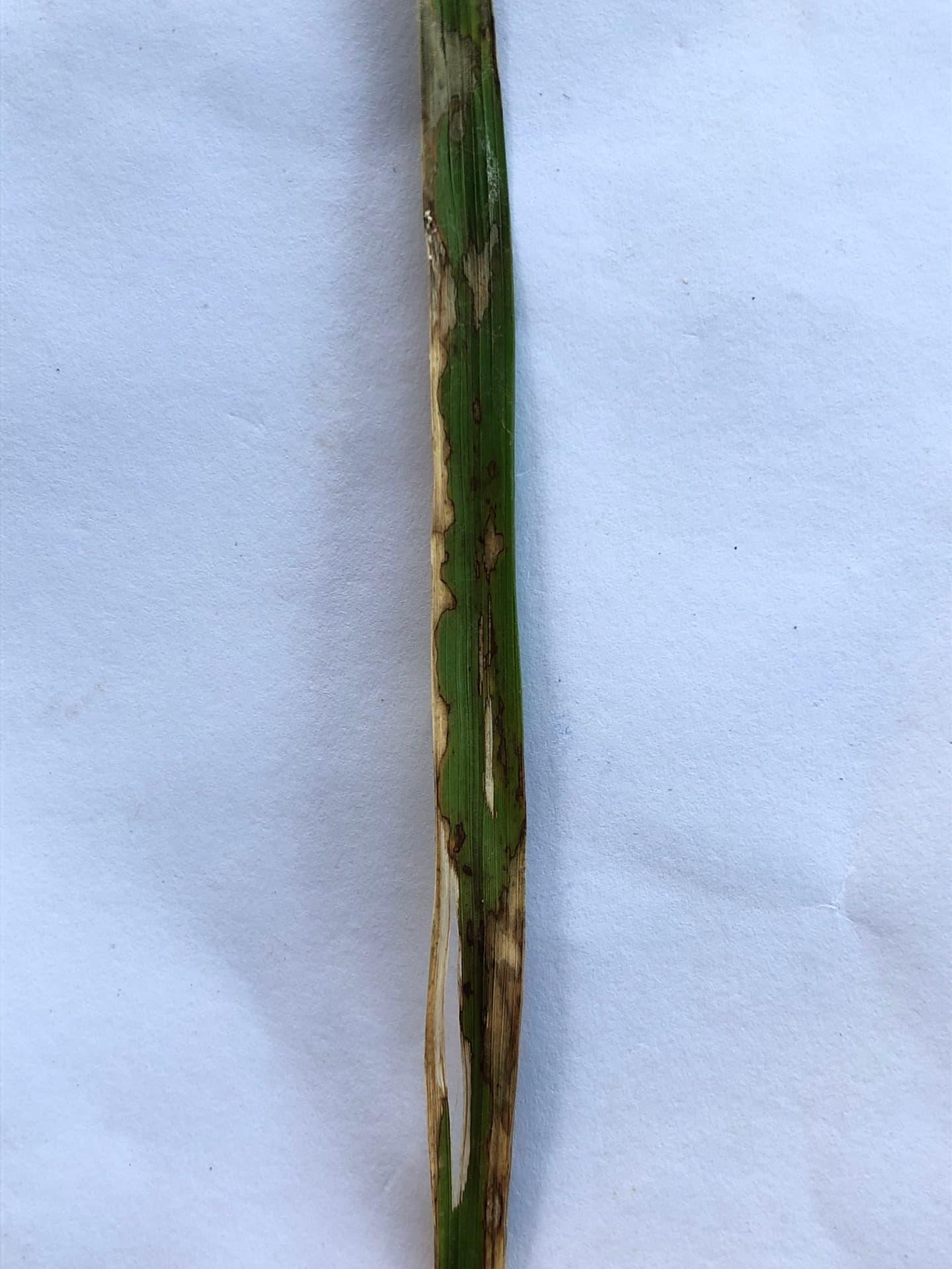Leaf Blight: (422, 124, 471, 1210), (486, 821, 526, 1268), (420, 0, 475, 176), (462, 223, 498, 323), (481, 507, 504, 571)
Leaf Streak: (483, 695, 493, 820), (477, 610, 484, 697), (487, 593, 493, 668)
